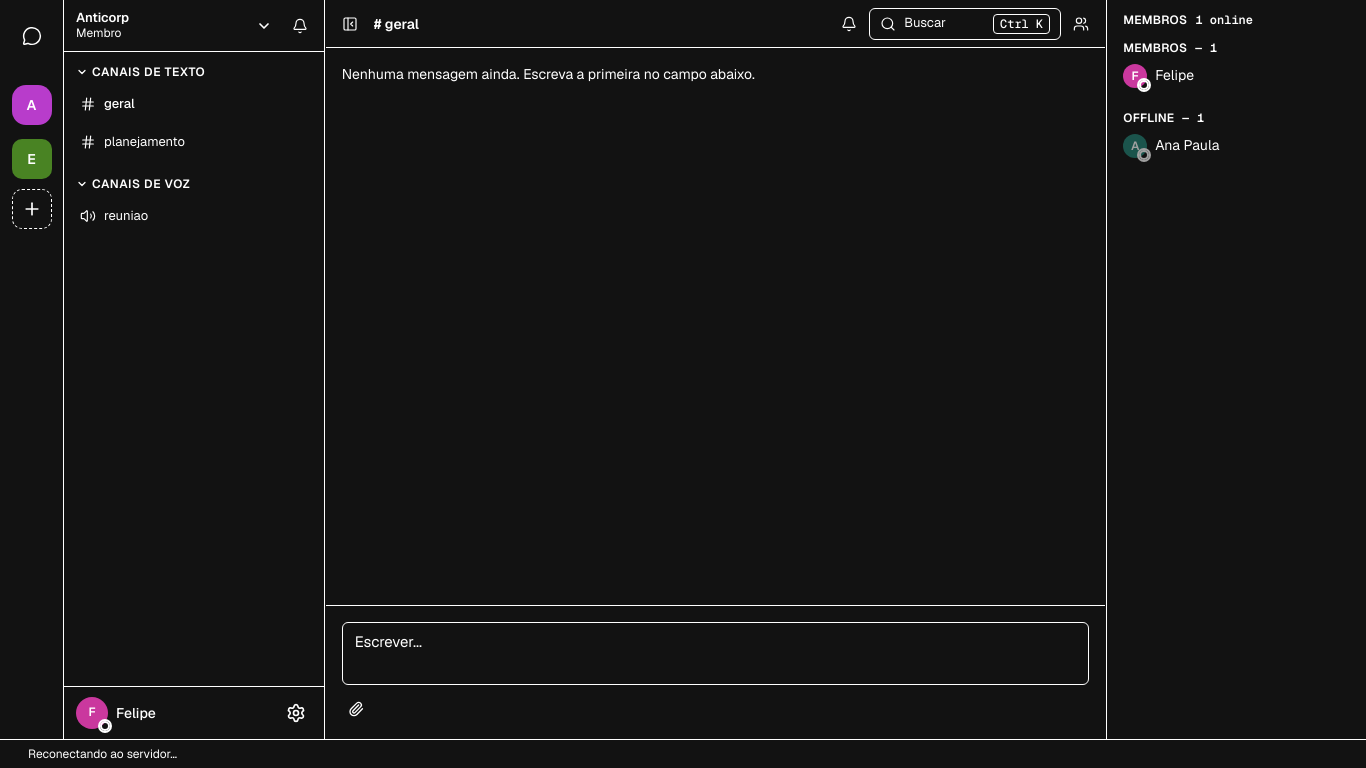
paleta de comandos › escolher uma pessoa abre o cartão de perfil dela
The image size is (1366, 768).
Type keys "{Control>}k{/Control}"
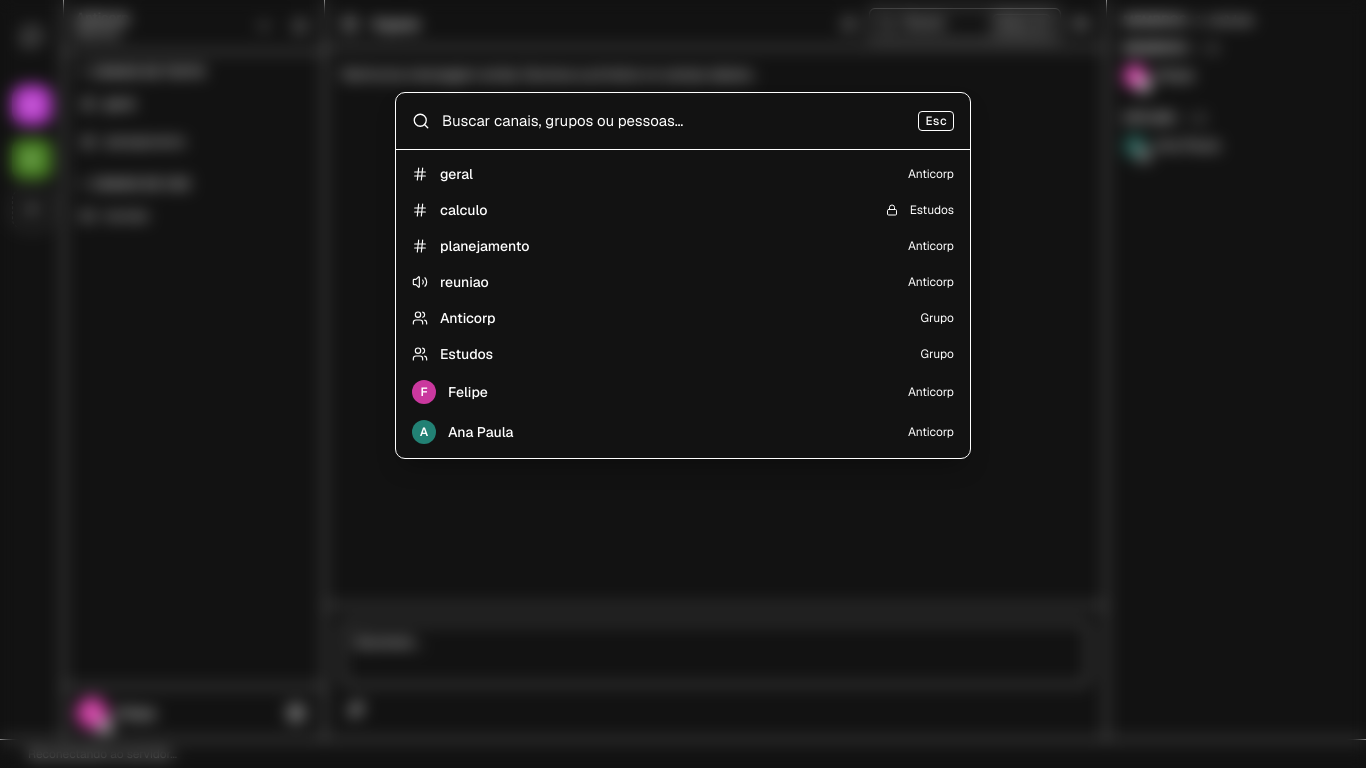
Type "ana" into the dropdown labelled "Buscar canais, grupos ou pessoas" at (674, 121), box [442,93,906,149]
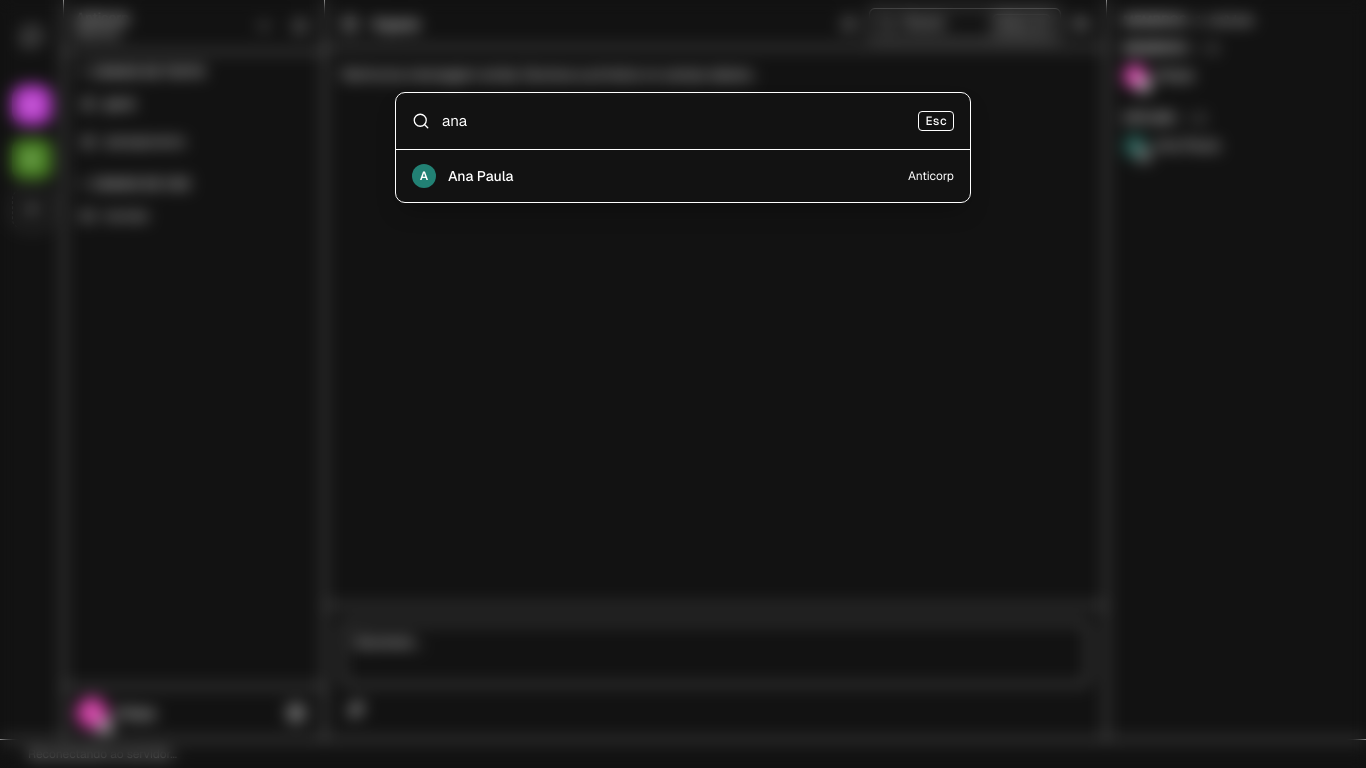
Press Enter
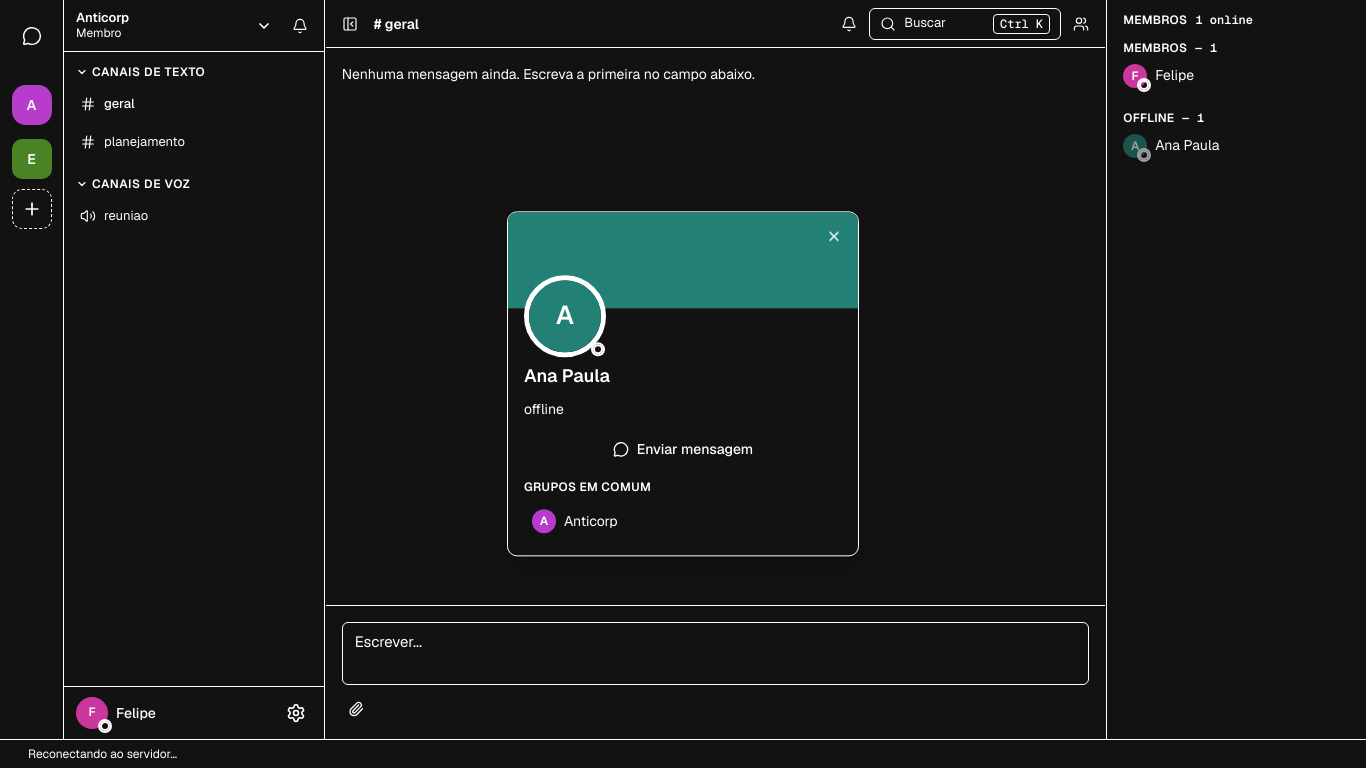
Expected: the dialog "Ana Paula" shows "Grupos em comum", [524,480,651,496]
